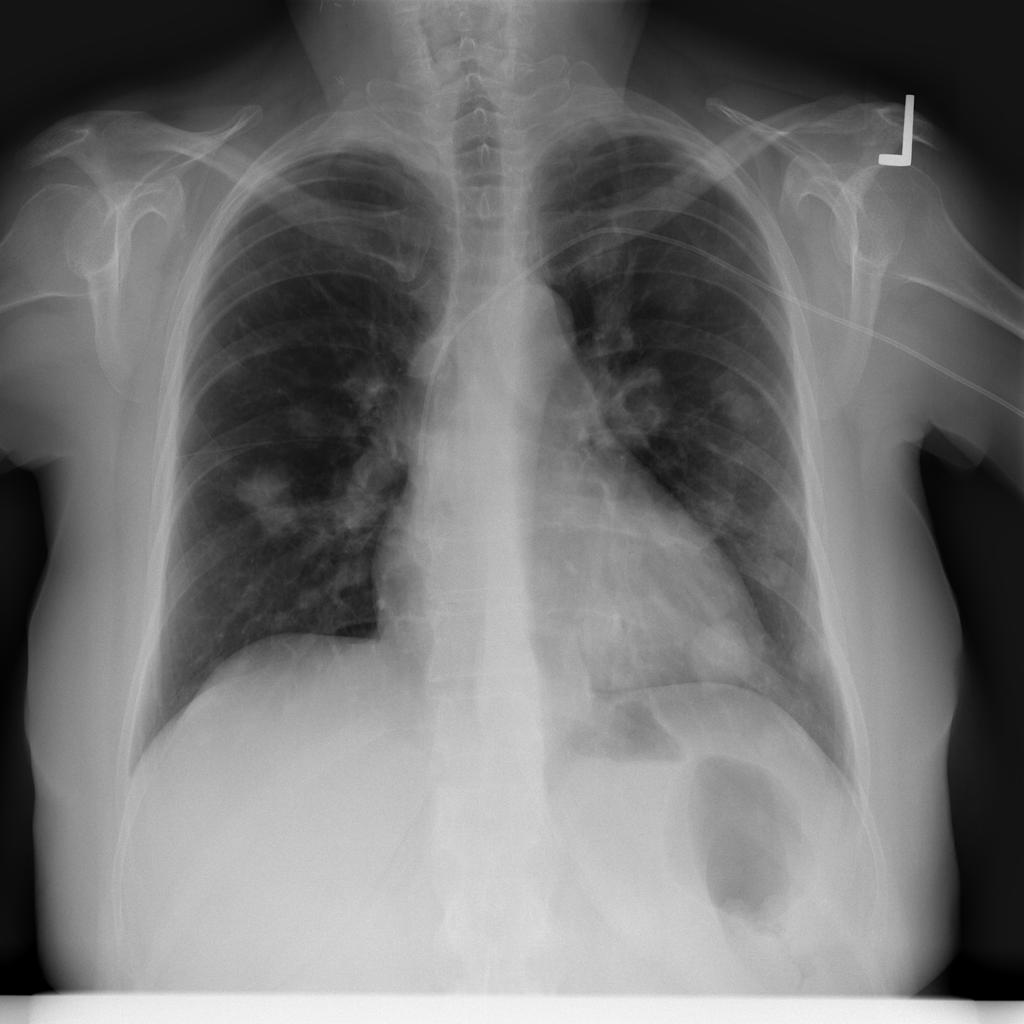nodule: (219, 445, 323, 552), (684, 611, 766, 695), (708, 368, 778, 446), (681, 473, 757, 543), (741, 532, 809, 607), (782, 613, 847, 691), (766, 682, 831, 757), (266, 387, 338, 454)
